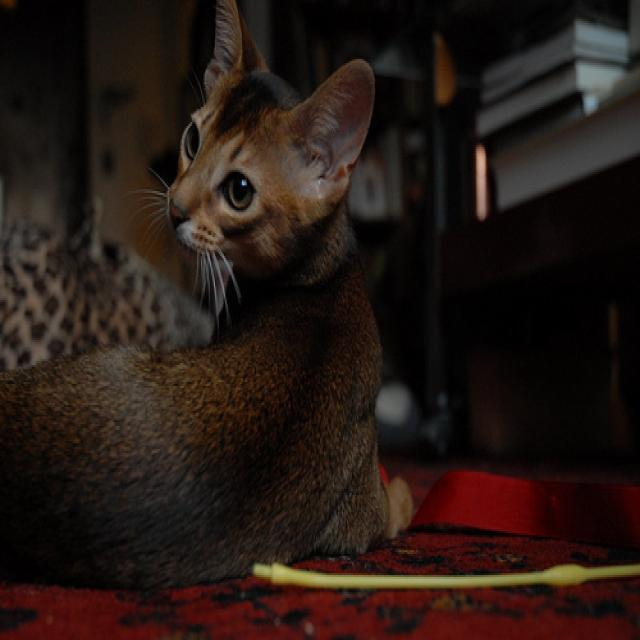Abyssinian: (162, 8, 364, 290)
